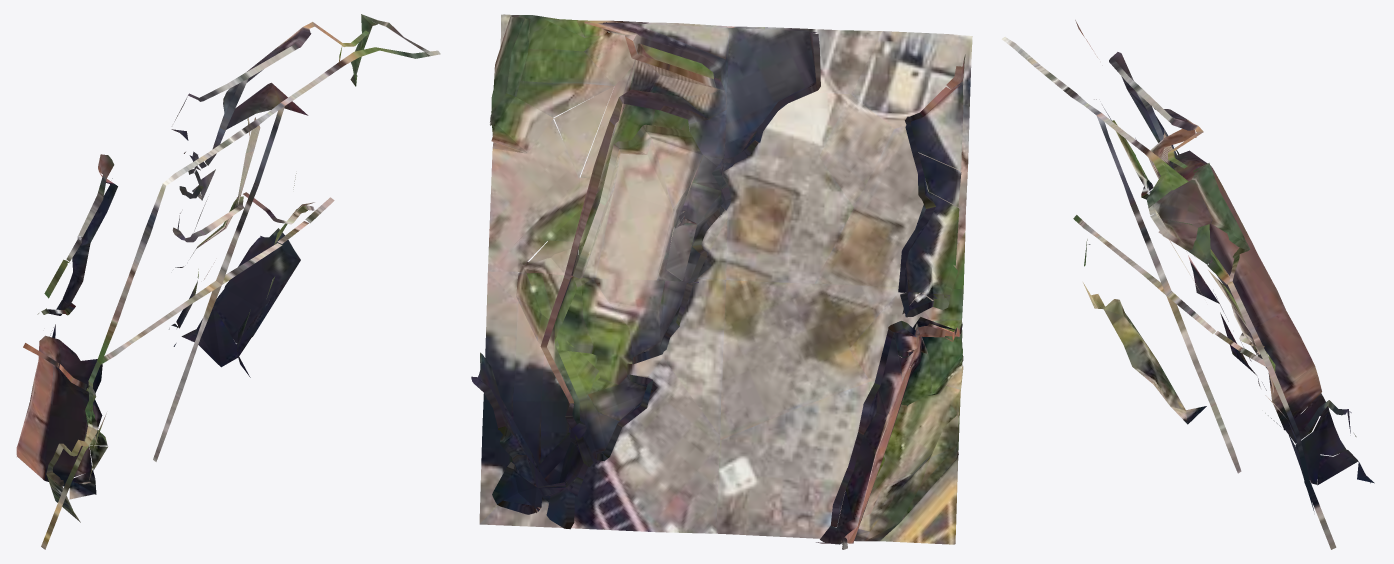
Rendered from AJVsH2xUlFiq089Mu4j5wk4MmvKVCtPr-fvuIE5mAOZc_x09zBp1gxi5esxYMrhSCsrZMgnmLwLwcyg2Xj8EFtCXxFMmuloTOv9DzGN6Ytk5eJzo9mBlXdyDH8t5j0zTzjNZTLmj7QrjpI62toyn7uqRyDNZ.glb.
The picture shows the model from 3 angles, left to right: view 1: azimuth 30°, elevation 25°; view 2: azimuth 150°, elevation 25°; view 3: azimuth 270°, elevation 25°; orthographic projection. The views are drawn at different scales.
Bounding box in the file's own units: 39.17 × 38.53 × 31.76.
2 materials, 2 textured.
